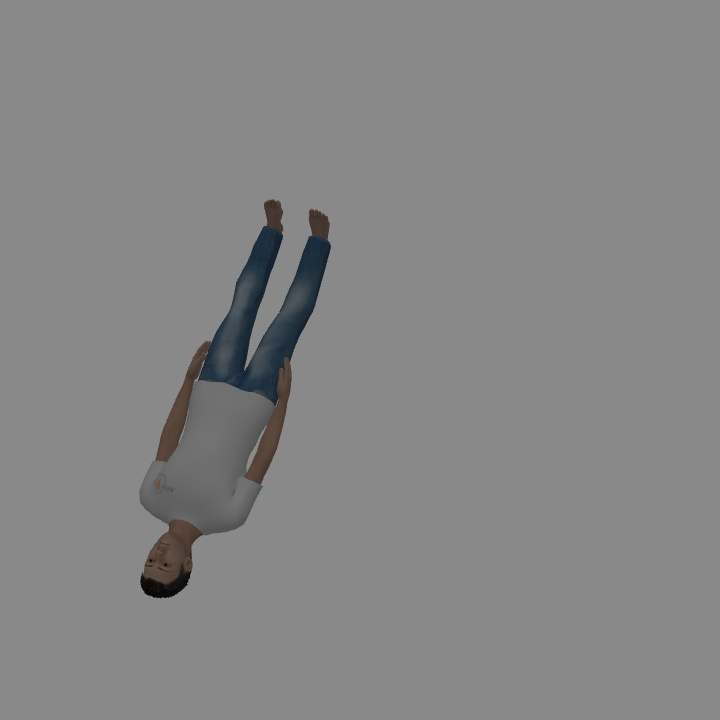victim: (137, 205, 327, 596)
